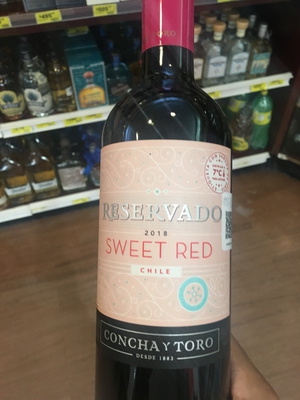reservado sweet red: (84, 48, 254, 400)
